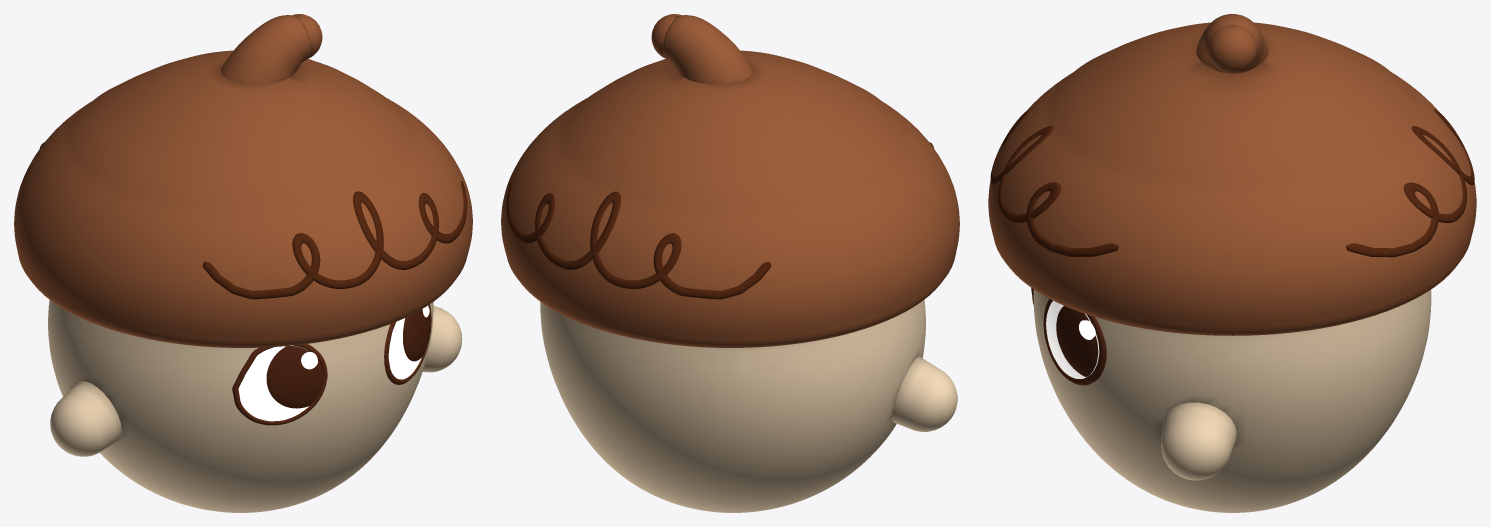
Rendered from dotori.glb.
3 views of the same model, side by side, from view 1: azimuth 30°, elevation 25°; view 2: azimuth 150°, elevation 25°; view 3: azimuth 270°, elevation 25° (orthographic). The views are drawn at different scales.
Visible parts, largest first — view 1: Cap, Body, CapLine, Arm_R_Body, EyeIris, EyeWhite, EyeRim, Arm_L_Body; view 2: Cap, Body, CapLine, Arm_R_Body; view 3: Cap, Body, CapLine, Arm_L_Body, EyeIris, EyeRim, EyeWhite.
Part boxes in pixels (x1,y1,x2,y2): Cap: [14, 14, 472, 347]; Body: [48, 299, 433, 512]; CapLine: [39, 142, 467, 299]; Arm_R_Body: [50, 381, 121, 456]; EyeIris: [266, 309, 430, 408]; EyeWhite: [238, 318, 421, 421]; EyeRim: [232, 304, 431, 425]; Arm_L_Body: [422, 306, 462, 372]; Cap: [501, 14, 959, 347]; Body: [540, 299, 925, 512]; CapLine: [506, 142, 934, 299]; Arm_R_Body: [892, 356, 957, 431]; Cap: [988, 14, 1476, 335]; Body: [1033, 290, 1431, 512]; CapLine: [990, 109, 1474, 257]; Arm_L_Body: [1161, 402, 1236, 480]; EyeIris: [1031, 288, 1098, 376]; EyeRim: [1032, 288, 1106, 385]; EyeWhite: [1046, 300, 1099, 378].
Size of the model in its own units: 0.0922 by 0.1018 by 0.0906.
